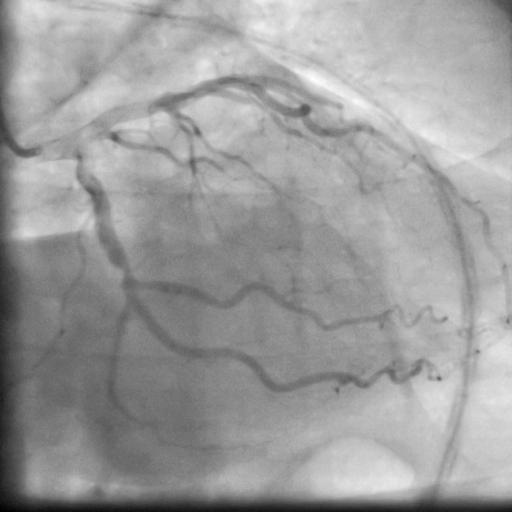Stenosis: (112, 260, 135, 279)
